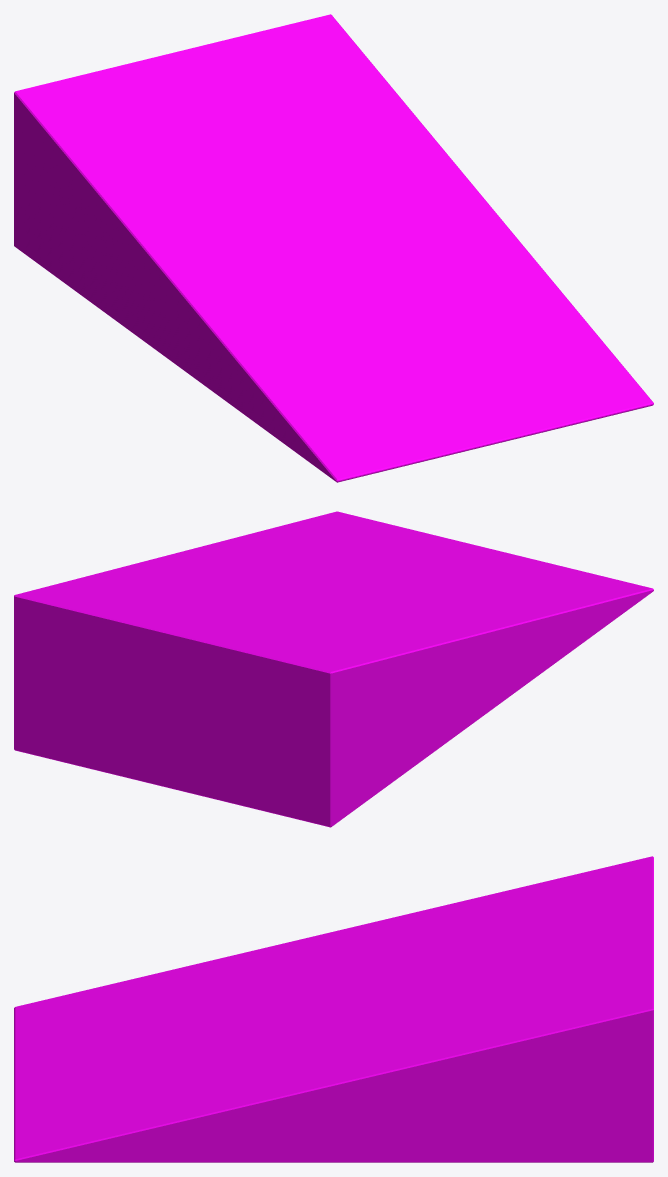
The model's file is PLF0110019.fbx.
3 views of the same model, one above another, from view 1: azimuth 30°, elevation 25°; view 2: azimuth 150°, elevation 25°; view 3: azimuth 270°, elevation 25° (orthographic).
Visible parts, largest first — view 1: smPLF0110019; view 2: smPLF0110019; view 3: smPLF0110019.
Boxes of the visible parts, x1,y1,x2,y2 form: smPLF0110019: [14, 14, 653, 482]; smPLF0110019: [14, 511, 653, 827]; smPLF0110019: [14, 856, 653, 1162].
Bounding box in the file's own units: 234 × 110 × 413.
Materials: 1 (1 with a texture image).
